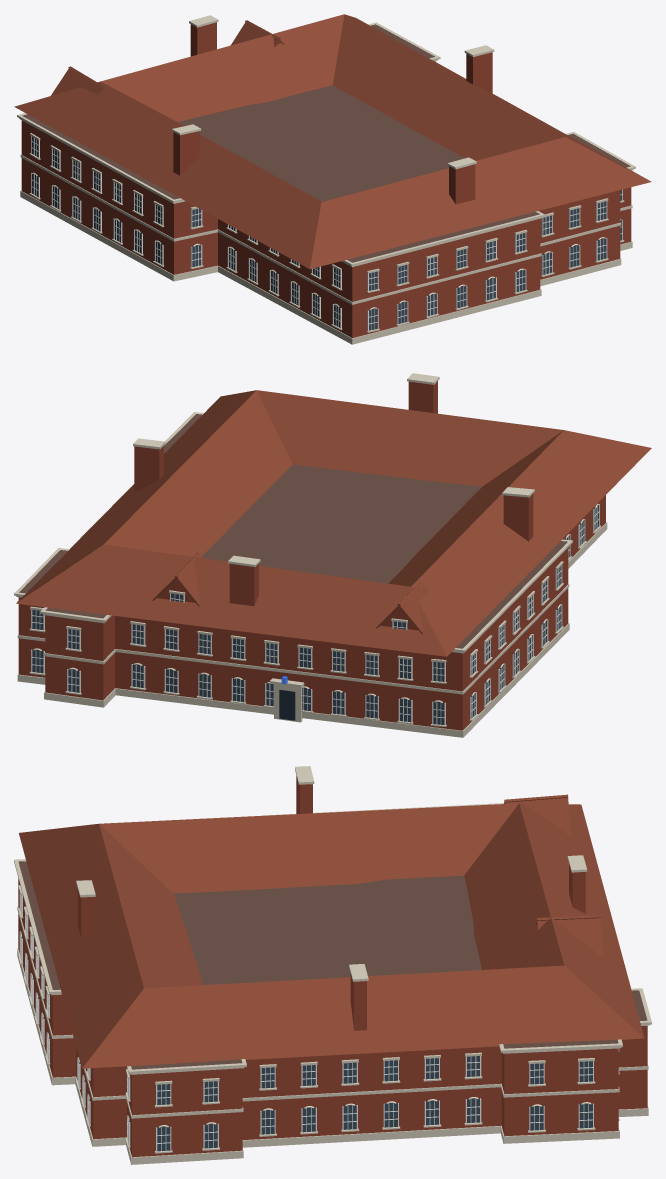
The model's file is hyde_park_police_station.glb.
3 renders of one model, top to bottom at view 1: azimuth 30°, elevation 25°; view 2: azimuth 150°, elevation 25°; view 3: azimuth 270°, elevation 25°, orthographic. The views are drawn at different scales.
Bounding box in the file's own units: 44.58 × 15.34 × 48.87.
